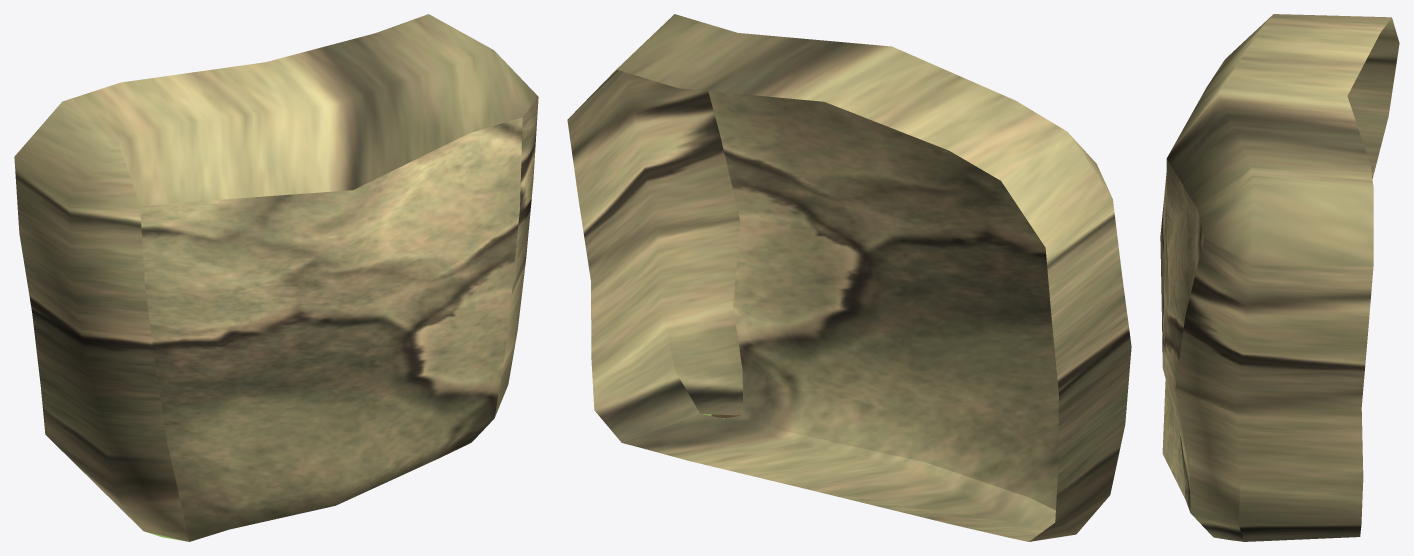
File: Escalable.fbx
3 renders of one model, left to right at view 1: azimuth 30°, elevation 25°; view 2: azimuth 150°, elevation 25°; view 3: azimuth 270°, elevation 25°, orthographic. The views are drawn at different scales.
Parts seen in each view (by area): view 1: piedra__3_; view 2: piedra__3_; view 3: piedra__3_.
Boxes of the visible parts, bbox=[...] form: piedra__3_: bbox=[14, 14, 538, 541]; piedra__3_: bbox=[567, 14, 1131, 541]; piedra__3_: bbox=[1160, 14, 1399, 541].
Bounding box in the file's own units: 1248 × 1034 × 556.
